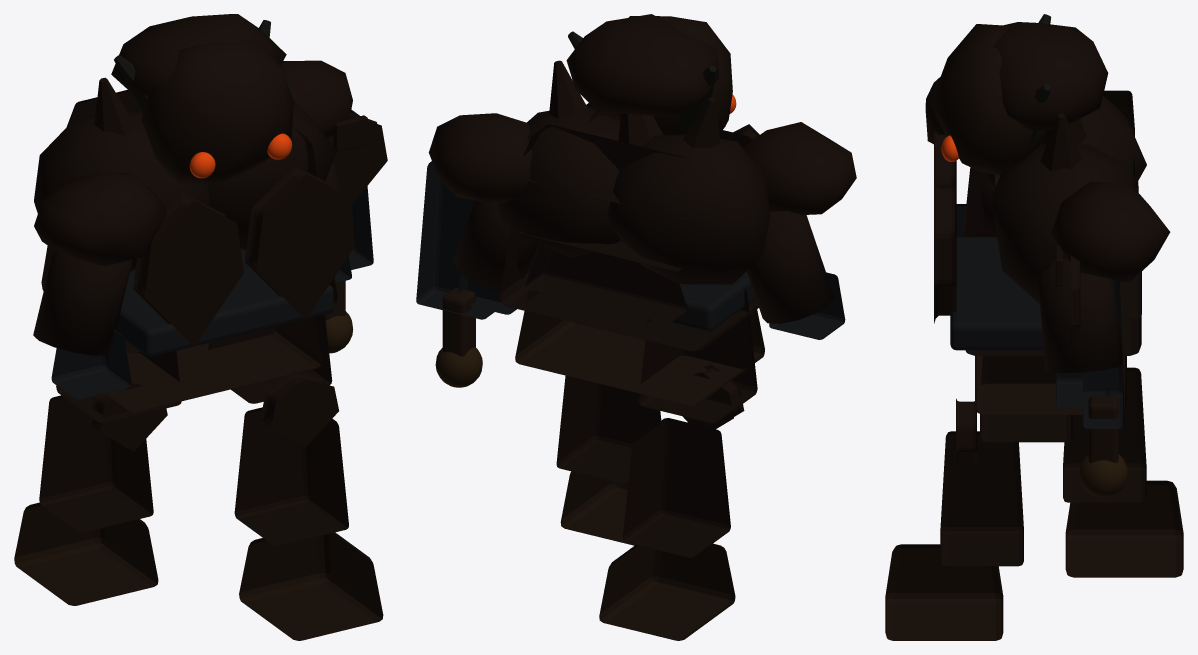
File: Brute_pose.obj
3 renders of one model, left to right at view 1: azimuth 30°, elevation 25°; view 2: azimuth 150°, elevation 25°; view 3: azimuth 270°, elevation 25°, orthographic. The views are drawn at different scales.
Parts seen in each view (by area): view 1: brute_face, heavy_boot.001, chitin_greave.001, split_breast_plate.001, chitin_greave, split_breast_plate, heavy_boot, broad_pelvis, brute_pauldron, brute_upper_arm, left_raised_carapace, broad_iron_belt (+17 smaller); view 2: left_raised_carapace, chitin_greave, right_raised_carapace, brow_helm, broad_pelvis, heavy_boot, brute_pauldron.001, chitin_greave.001, overlap_shell.002, brute_pauldron, brute_upper_arm, hunched_shell_base (+16 smaller); view 3: heavy_boot.001, chitin_greave.001, heavy_boot, right_raised_carapace, brute_face, brow_helm, brute_pauldron.001, broad_iron_belt, brute_upper_arm.001, chitin_greave, heavy_thigh.001, broad_pelvis (+15 smaller).
Part boxes in pixels (<box>): brute_face: <box>141,39,293,185</box>; heavy_boot.001: <box>239,532,383,640</box>; chitin_greave.001: <box>234,407,348,546</box>; split_breast_plate.001: <box>244,165,355,319</box>; chitin_greave: <box>39,395,153,532</box>; split_breast_plate: <box>133,193,243,346</box>; heavy_boot: <box>14,502,158,605</box>; broad_pelvis: <box>105,317,322,412</box>; brute_pauldron: <box>34,173,166,266</box>; brute_upper_arm: <box>33,249,132,355</box>; left_raised_carapace: <box>34,110,210,271</box>; broad_iron_belt: <box>116,248,333,356</box>; left_raised_carapace: <box>607,134,770,284</box>; chitin_greave: <box>623,418,730,557</box>; right_raised_carapace: <box>498,106,620,257</box>; brow_helm: <box>566,14,719,115</box>; broad_pelvis: <box>515,290,764,405</box>; heavy_boot: <box>599,543,735,640</box>; brute_pauldron.001: <box>428,113,532,202</box>; chitin_greave.001: <box>556,375,661,483</box>; overlap_shell.002: <box>525,243,687,323</box>; brute_pauldron: <box>743,122,856,215</box>; brute_upper_arm: <box>746,211,834,323</box>; hunched_shell_base: <box>499,103,758,351</box>; heavy_boot.001: <box>885,544,1003,640</box>; chitin_greave.001: <box>940,431,1023,566</box>; heavy_boot: <box>1065,480,1183,577</box>; right_raised_carapace: <box>992,144,1135,304</box>; brute_face: <box>931,24,1047,175</box>; brow_helm: <box>993,22,1108,130</box>; brute_pauldron.001: <box>1051,181,1170,283</box>; broad_iron_belt: <box>950,237,1043,350</box>; brute_upper_arm.001: <box>1038,259,1122,372</box>; chitin_greave: <box>1063,367,1146,502</box>; heavy_thigh.001: <box>980,356,1072,442</box>; broad_pelvis: <box>975,356,1126,414</box>.
Size of the model in its own units: 1.48 by 2.05 by 0.9928.
